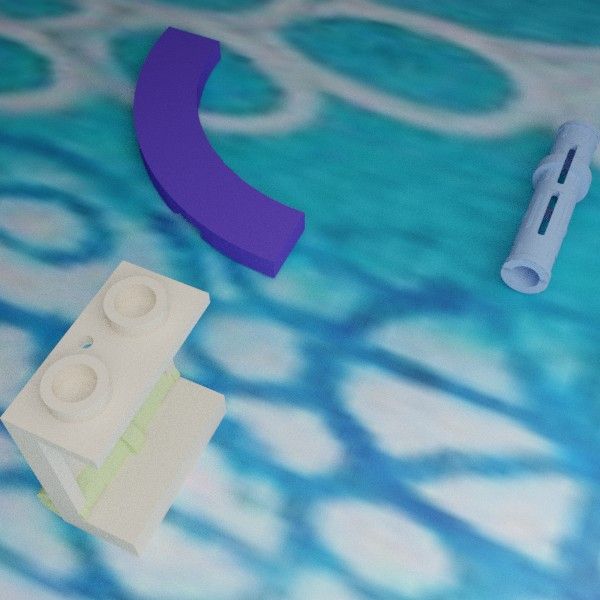lego: (0, 260, 226, 558), (133, 26, 305, 278), (36, 350, 181, 526), (500, 119, 600, 293)
